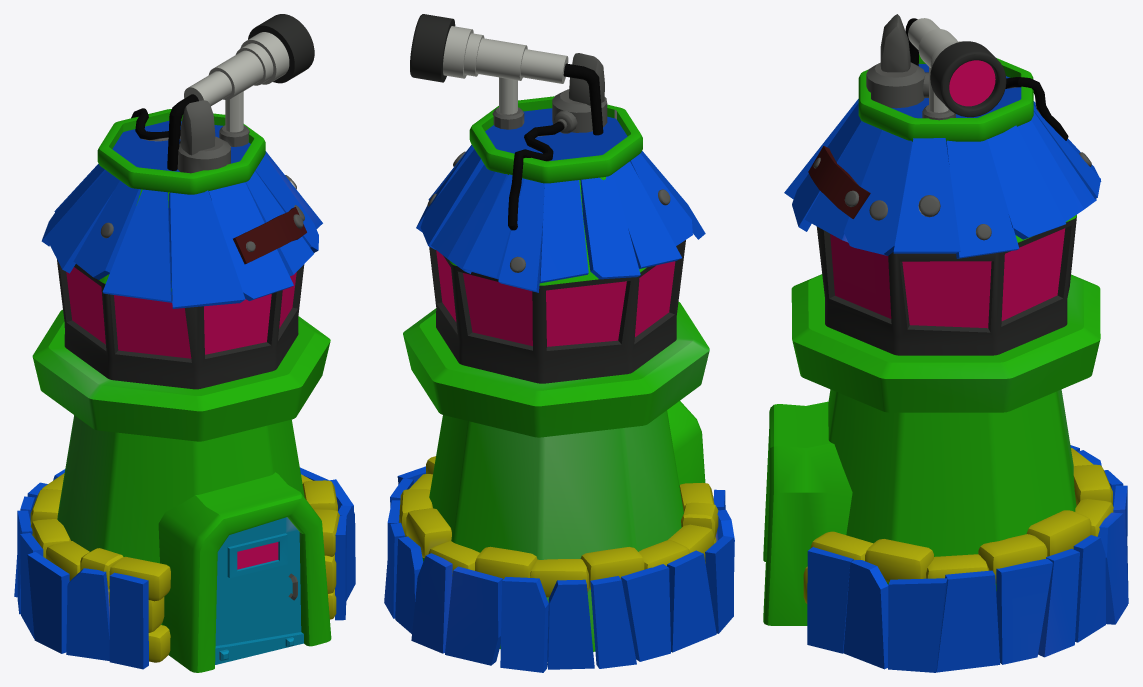
File: PoliceBuilding.fbx
3 renders of one model, left to right at view 1: azimuth 30°, elevation 25°; view 2: azimuth 150°, elevation 25°; view 3: azimuth 270°, elevation 25°, orthographic. The views are drawn at different scales.
Visible parts, largest first — view 1: Circle.004; view 2: Circle.004; view 3: Circle.004.
Boxes of the visible parts, box(x1,y1,x2,y2) form: Circle.004: box(14, 14, 355, 672); Circle.004: box(384, 14, 734, 672); Circle.004: box(763, 14, 1128, 672).
Bounding box in the file's own units: 85.6 × 145 × 79.4.
